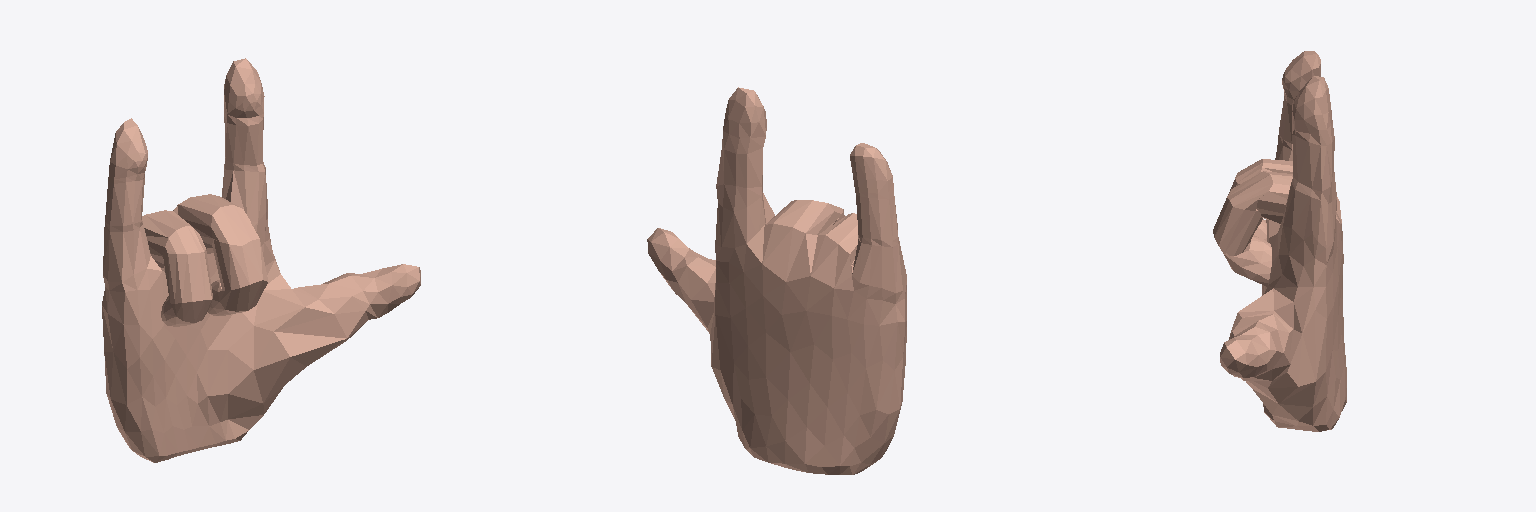
File: MAO_I_LOVE_YOU.obj
3 views of the same model, side by side, from view 1: azimuth 30°, elevation 25°; view 2: azimuth 150°, elevation 25°; view 3: azimuth 270°, elevation 25° (orthographic).
Parts seen in each view (by area): view 1: mao_dir:mao_dir; view 2: mao_dir:mao_dir; view 3: mao_dir:mao_dir.
Boxes of the visible parts, x1=… form: mao_dir:mao_dir: x1=102, y1=58, x2=420, y2=462; mao_dir:mao_dir: x1=647, y1=87, x2=906, y2=474; mao_dir:mao_dir: x1=1213, y1=51, x2=1346, y2=431.
Size of the model in its own units: 188 by 227 by 76.9.